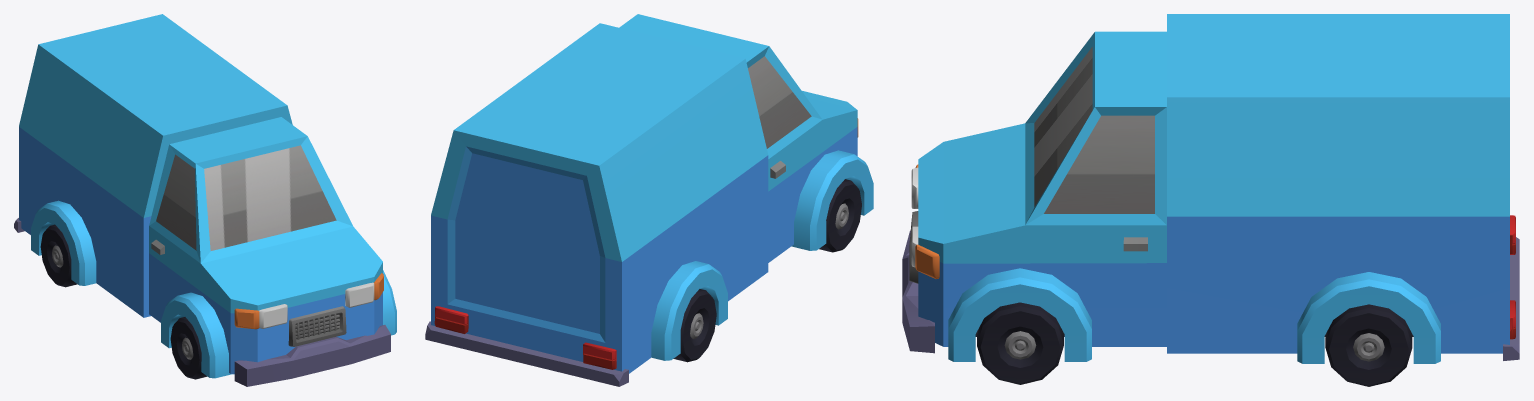
File: Van_12.glb
3 views of the same model, side by side, from view 1: azimuth 30°, elevation 25°; view 2: azimuth 150°, elevation 25°; view 3: azimuth 270°, elevation 25° (orthographic). The views are drawn at different scales.
Parts seen in each view (by area): view 1: Van_12, wheel_FR, wheel_BR; view 2: Van_12, wheel_BR, wheel_FR; view 3: Van_12, wheel_BL, wheel_FL.
Boxes of the visible parts, left/top/right/bottom form: Van_12: left=14, top=14, right=396, bottom=386; wheel_FR: left=170, top=317, right=207, bottom=379; wheel_BR: left=40, top=224, right=77, bottom=287; Van_12: left=425, top=14, right=873, bottom=386; wheel_BR: left=673, top=289, right=716, bottom=362; wheel_FR: left=819, top=179, right=861, bottom=252; Van_12: left=902, top=14, right=1519, bottom=363; wheel_BL: left=1325, top=304, right=1412, bottom=386; wheel_FL: left=977, top=302, right=1063, bottom=384.
Size of the model in its own units: 1.23 by 1.19 by 2.48.
5 materials, 5 textured.
